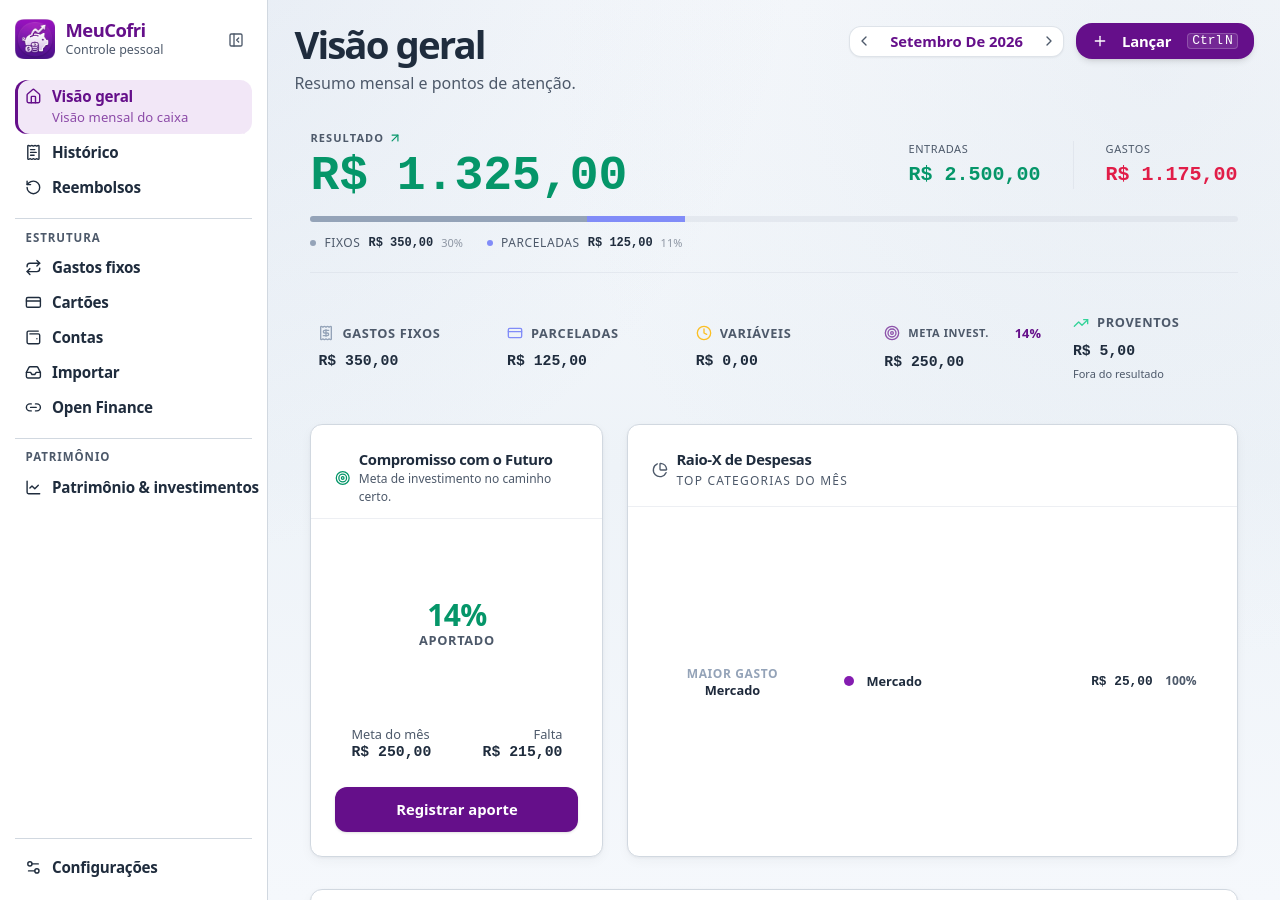
Test: App › opens the global quick add dialog from the shell launcher
This screenshot has width=1280, height=900.
Expected: the heading "Visão geral" is shown, [294,18,484,70]
Click the button "Lançar Ctrl N": x=1165, y=41 [1076,23,1254,59]
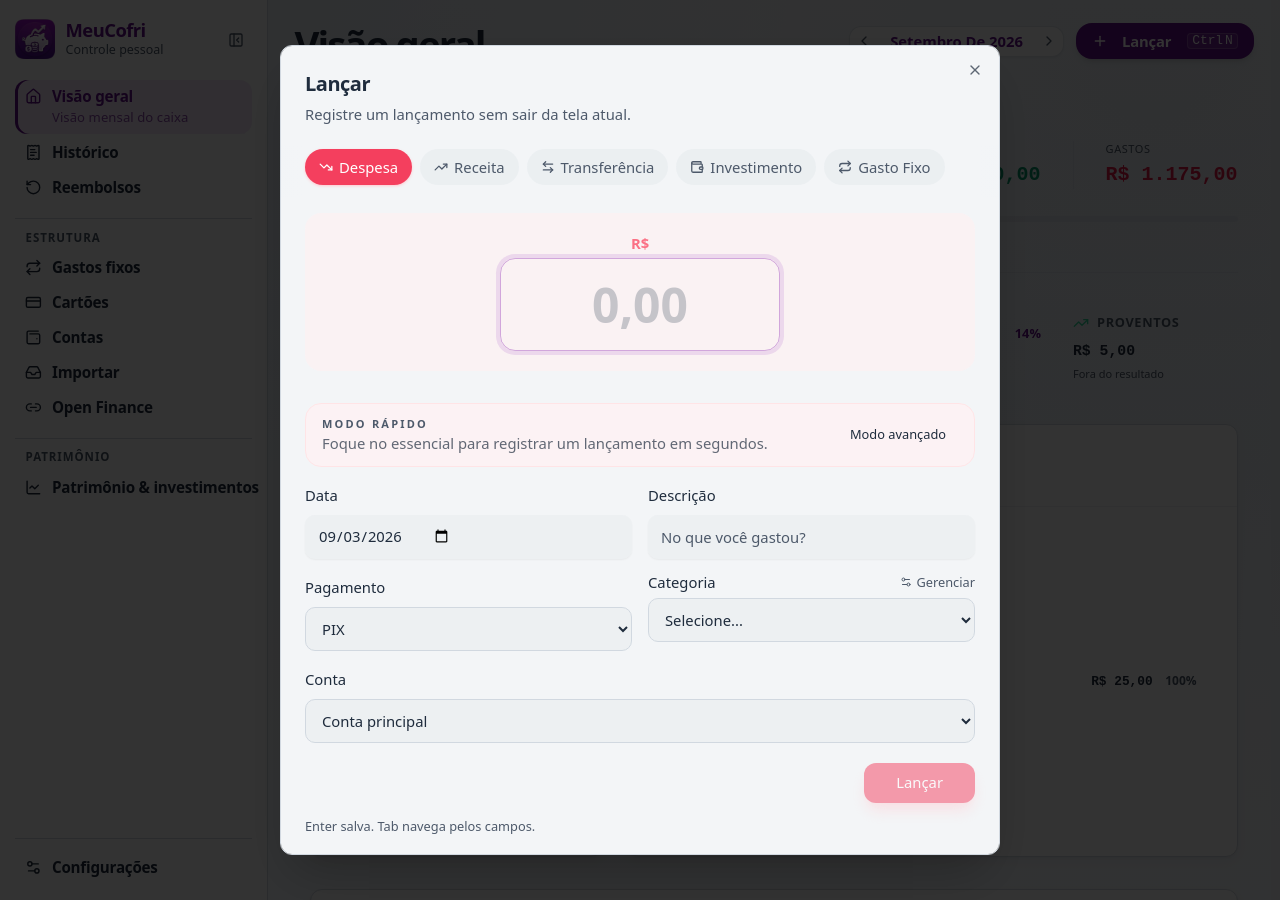
Expected: the dialog is shown, [280,45,1000,855]
